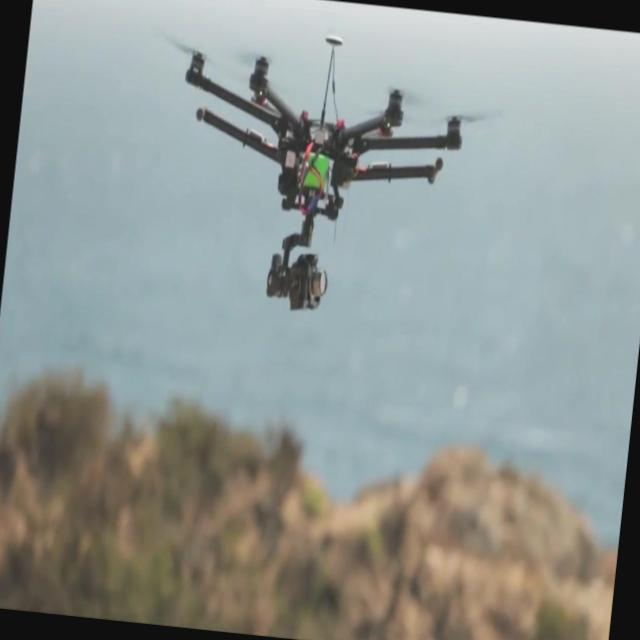drone: (146, 17, 478, 328)
